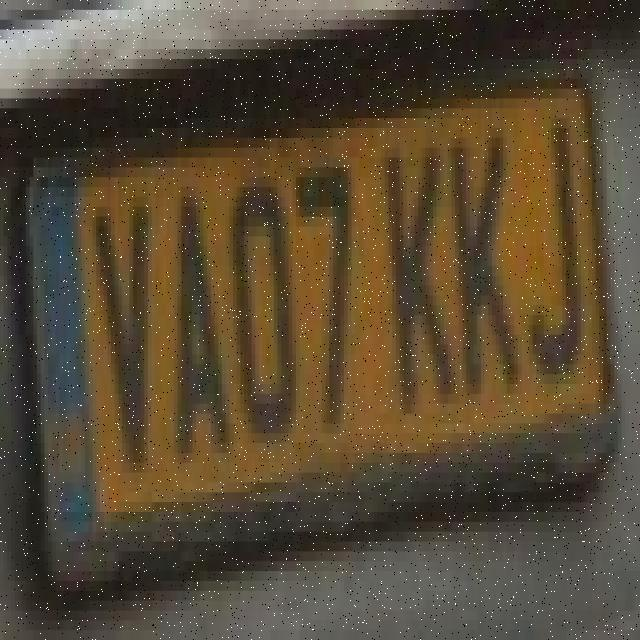LicensePlate: (22, 79, 620, 560)
